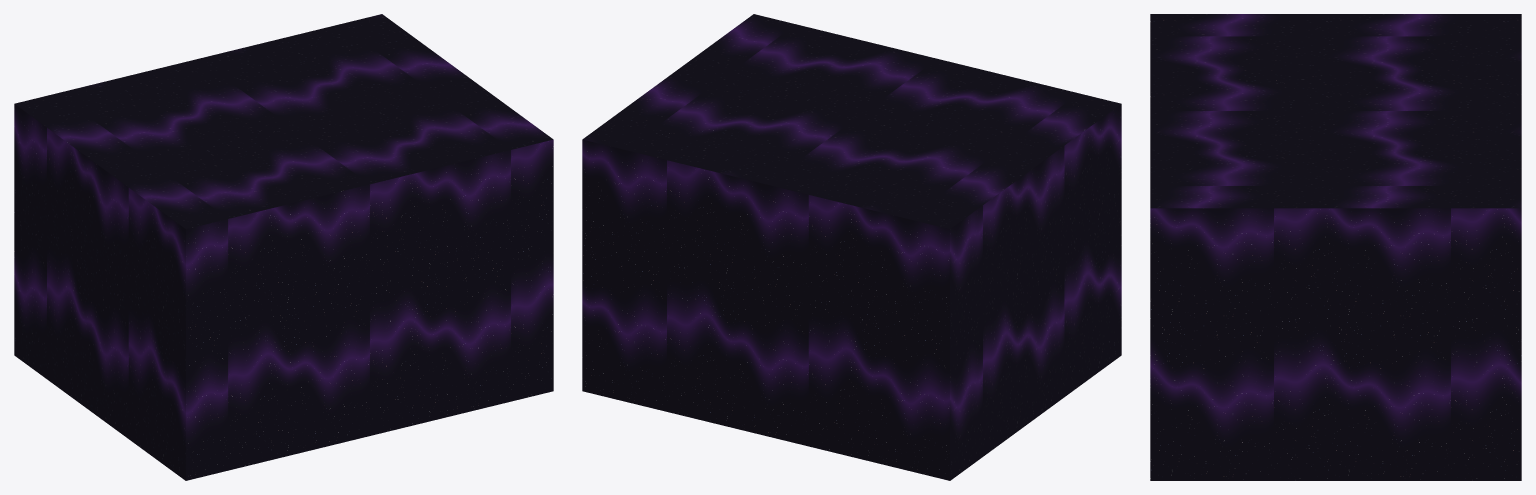
File: docking-bay.glb
3 views of the same model, side by side, from view 1: azimuth 30°, elevation 25°; view 2: azimuth 150°, elevation 25°; view 3: azimuth 270°, elevation 25° (orthographic). The views are drawn at different scales.
Parts seen in each view (by area): view 1: space; view 2: space; view 3: space.
Boxes of the visible parts, x1,y1,x2,y2 form: space: (14,14,553,480); space: (582,14,1121,480); space: (1150,14,1521,480).
Size of the model in its own units: 52 by 34 by 42.
Materials: 11 (5 with a texture image).
